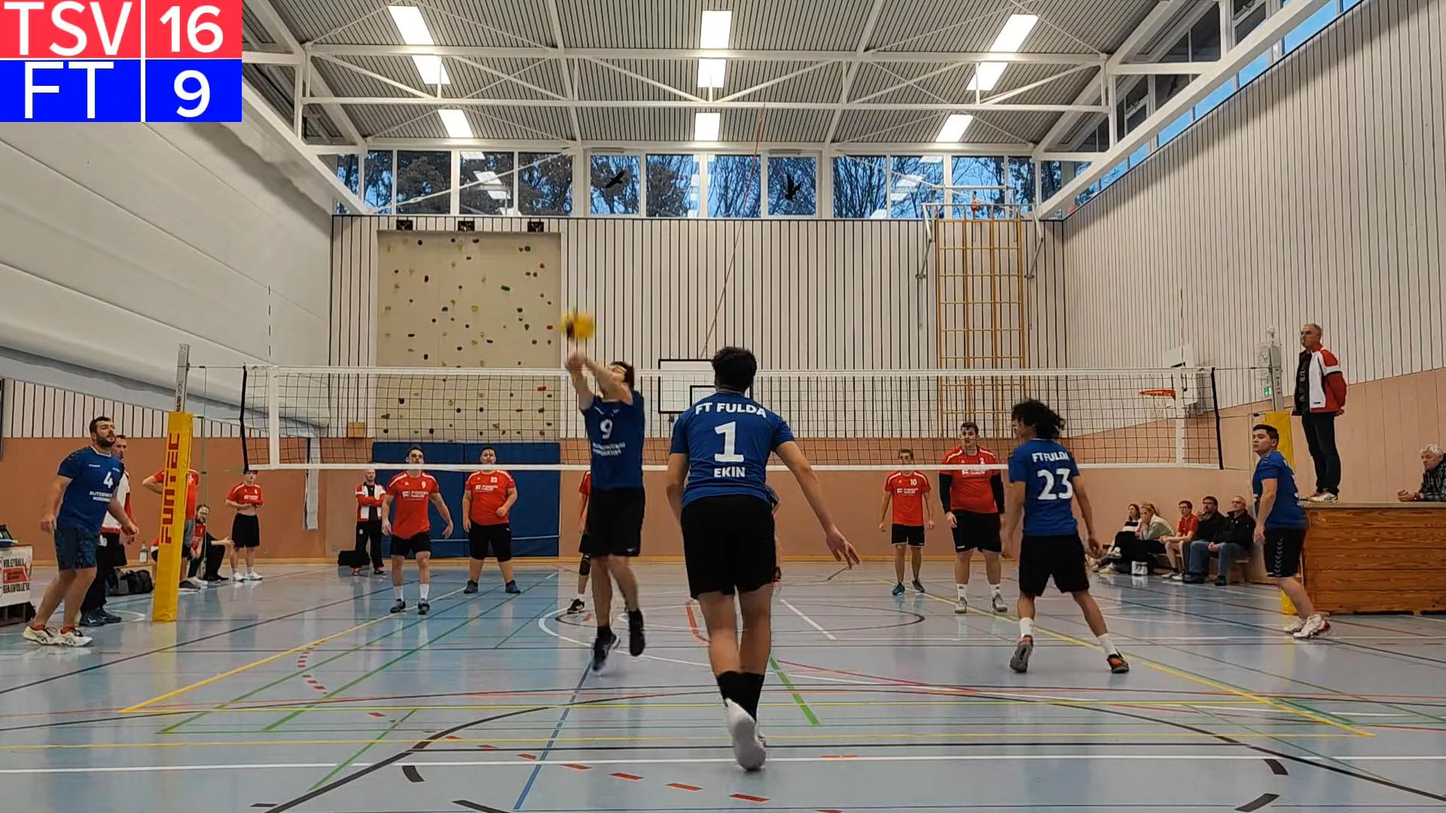alzata: (563, 345, 650, 675)
